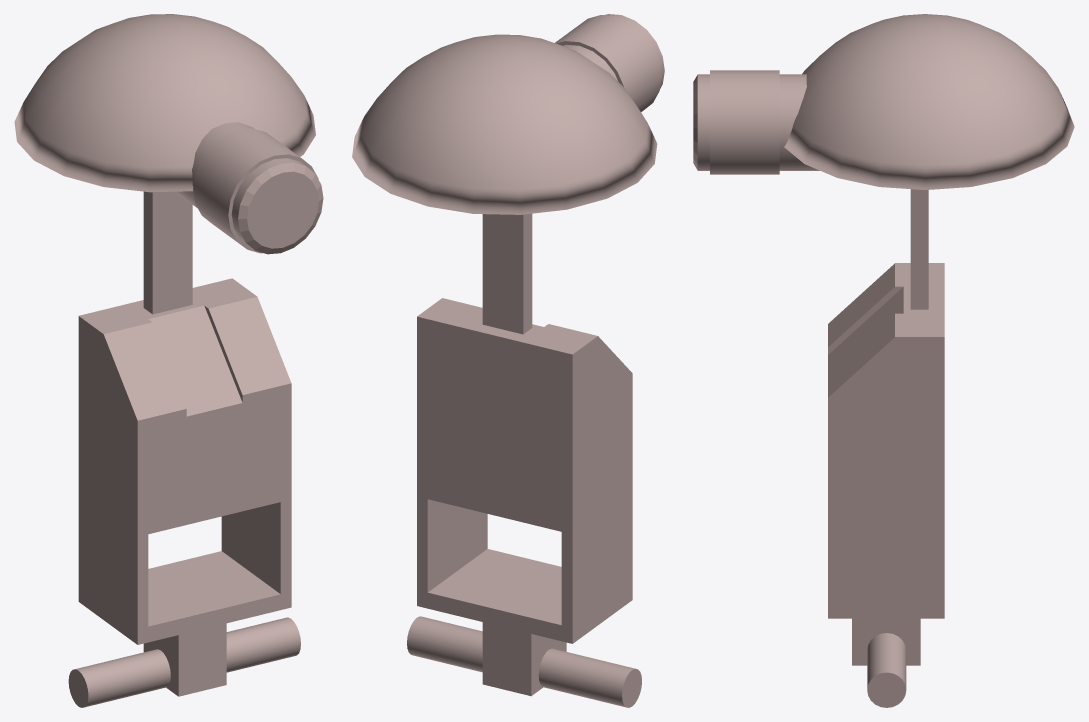
Rendered from robotcuerpo.obj.
The picture shows the model from 3 angles, left to right: view 1: azimuth 30°, elevation 25°; view 2: azimuth 150°, elevation 25°; view 3: azimuth 270°, elevation 25°; orthographic projection. The views are drawn at different scales.
Visible parts, largest first — view 1: pCylinder8; view 2: pCylinder8; view 3: pCylinder8.
Boxes of the visible parts, x1,y1,x2,y2 form: pCylinder8: (14,14,323,707); pCylinder8: (352,14,664,707); pCylinder8: (693,14,1074,707).
Bounding box in the file's own units: 4.69 × 10.89 × 5.99.
Materials: 1 (1 with a texture image).
